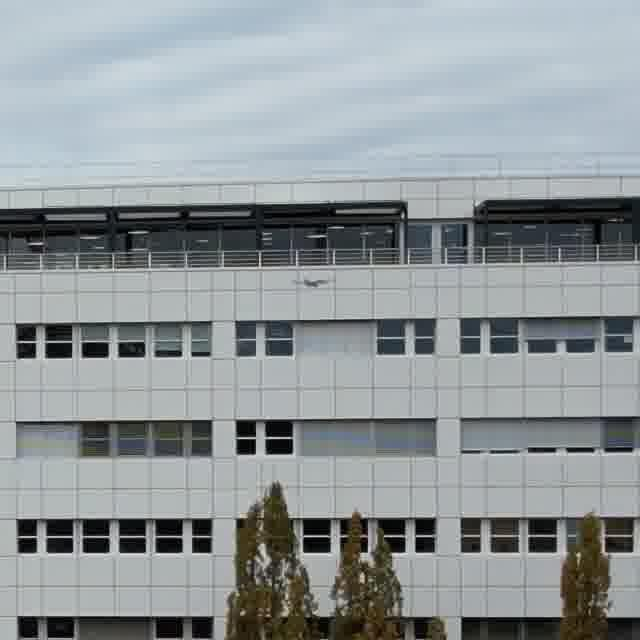Drohne: (294, 277, 332, 287)
